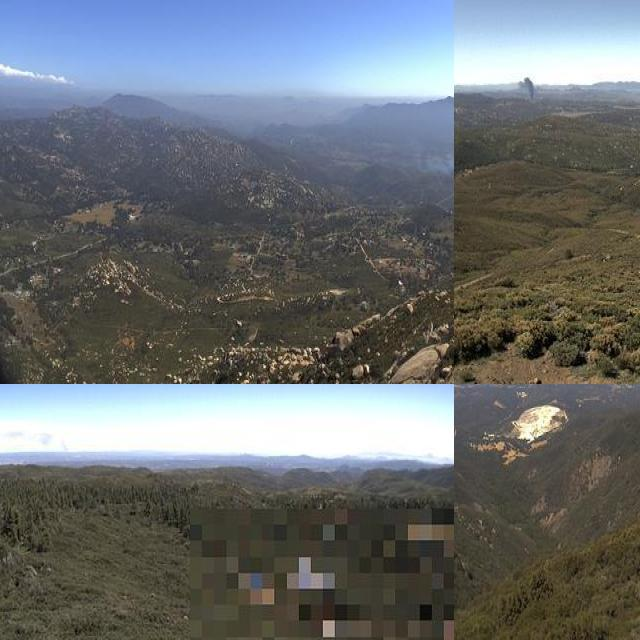smoke: (3, 426, 72, 454), (418, 142, 454, 174), (513, 73, 538, 106)
